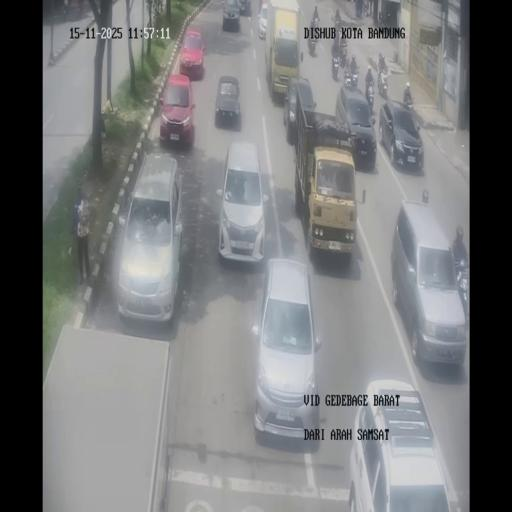3: (40, 324, 174, 508), (264, 0, 301, 101)
car: (347, 380, 458, 510), (391, 201, 466, 366), (252, 256, 319, 440), (115, 151, 183, 323), (217, 137, 267, 265), (305, 146, 357, 260), (336, 84, 378, 166), (380, 98, 424, 170), (160, 72, 196, 148), (283, 78, 316, 146), (179, 28, 205, 79), (222, 1, 240, 31), (258, 2, 268, 40), (238, 0, 248, 15)
truck: (455, 263, 469, 322), (308, 26, 318, 55), (338, 38, 348, 66), (378, 71, 388, 98), (366, 80, 374, 113), (350, 64, 360, 87), (332, 56, 340, 80), (403, 92, 415, 108), (344, 58, 351, 84), (334, 18, 342, 40), (378, 55, 387, 73), (312, 13, 320, 29), (332, 37, 338, 58), (362, 0, 368, 17), (378, 10, 383, 24)
